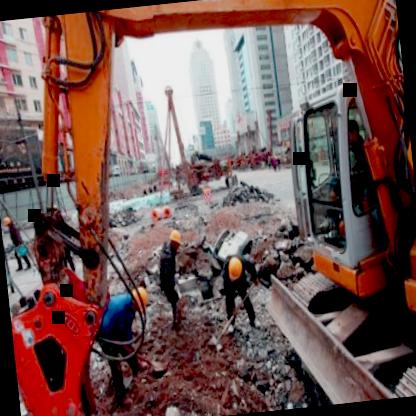helmet: (126, 284, 153, 318), (221, 254, 244, 286), (168, 226, 182, 250)
